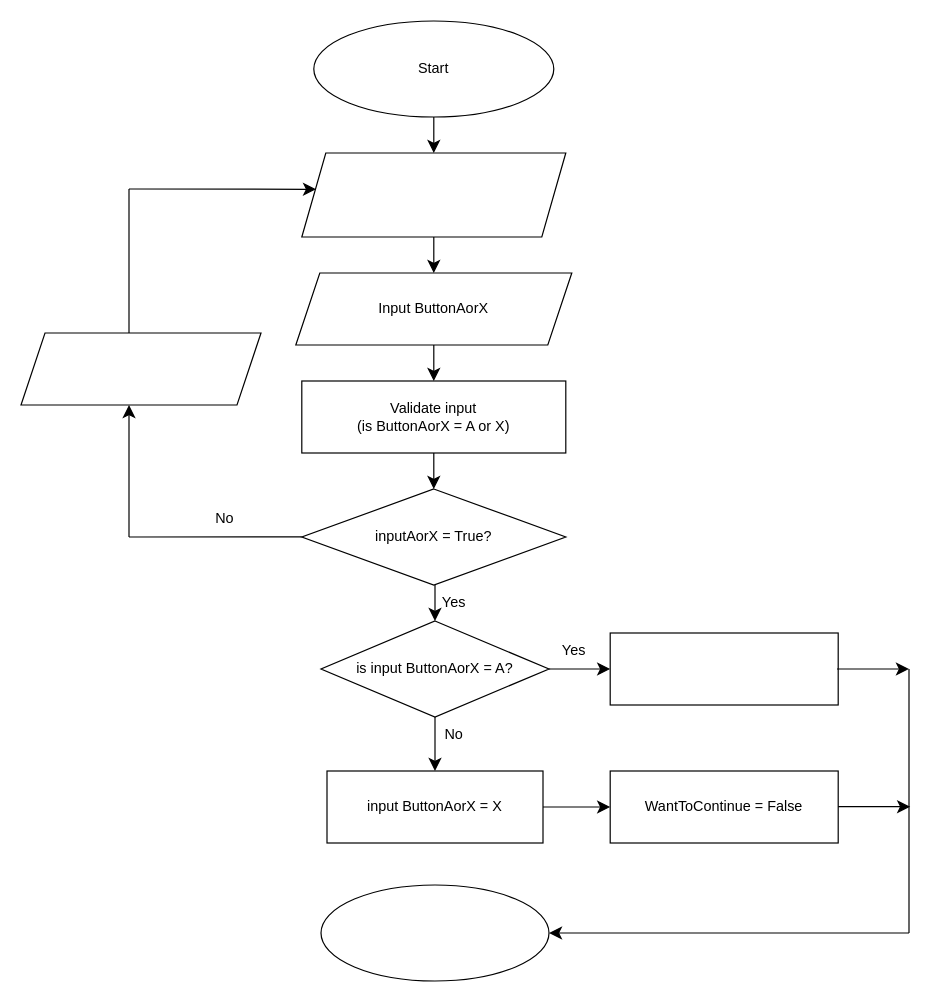
Some shapes in this 931 by 1002 pixel diagram are drawn without their labels. Each missing label, with the centre of its shape:
End: (x=434, y=932)
Ouput "3 lights detected. Press X to terminate or A to continue": (x=433, y=194)
Output "Invalid button pressed. Please try again.": (x=140, y=368)
WantToContinue = True: (x=723, y=668)
